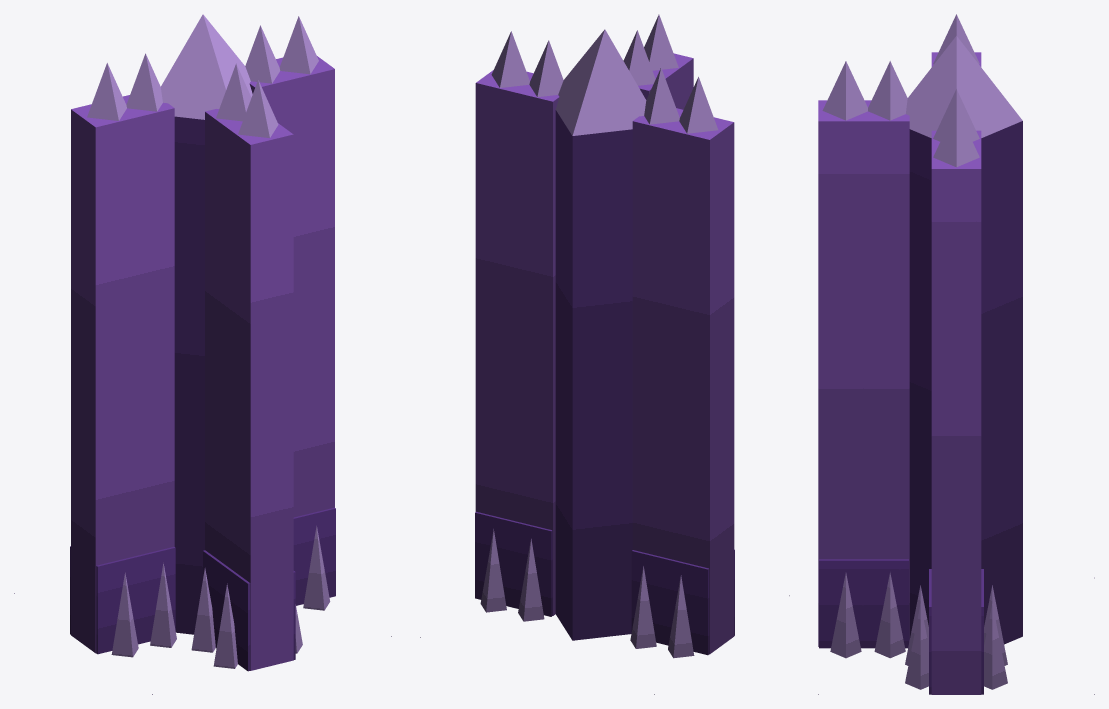
Rendered from wall_crystal_tee.glb.
3 views of the same model, side by side, from view 1: azimuth 30°, elevation 25°; view 2: azimuth 150°, elevation 25°; view 3: azimuth 270°, elevation 25° (orthographic). The views are drawn at different scales.
Size of the model in its own units: 1 by 2.4 by 1.
1 material, 1 textured.
